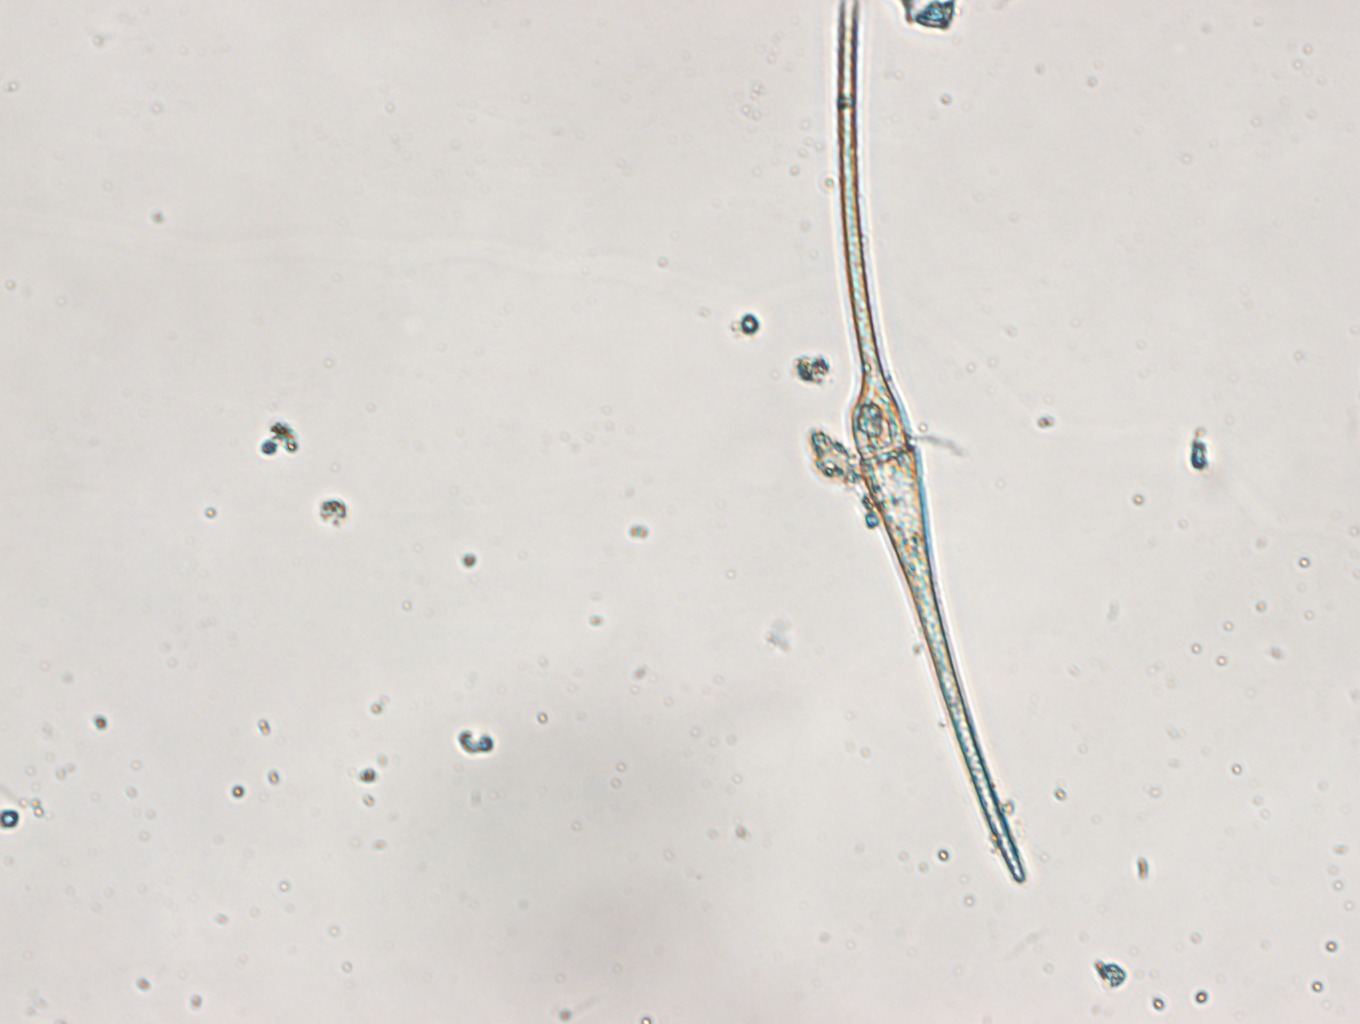ceratium fusus: (838, 1, 1027, 884)
